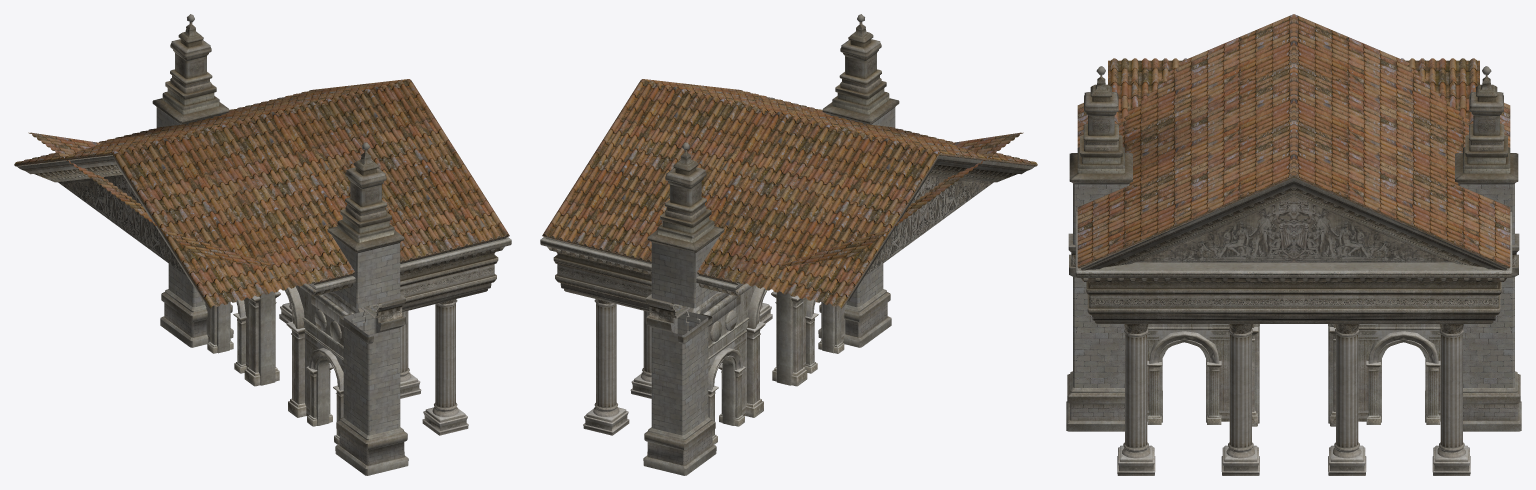
File: Tower10.fbx
3 views of the same model, side by side, from view 1: azimuth 30°, elevation 25°; view 2: azimuth 150°, elevation 25°; view 3: azimuth 270°, elevation 25° (orthographic). The views are drawn at different scales.
Parts seen in each view (by area): view 1: Edit_MERGED_StaticMeshActor_06; view 2: Edit_MERGED_StaticMeshActor_06; view 3: Edit_MERGED_StaticMeshActor_06.
Boxes of the visible parts, left/top/right/bottom form: Edit_MERGED_StaticMeshActor_06: left=14, top=14, right=511, bottom=475; Edit_MERGED_StaticMeshActor_06: left=540, top=14, right=1037, bottom=475; Edit_MERGED_StaticMeshActor_06: left=1066, top=14, right=1521, bottom=475.
Bounding box in the file's own units: 4.6 × 4.65 × 5.48.
